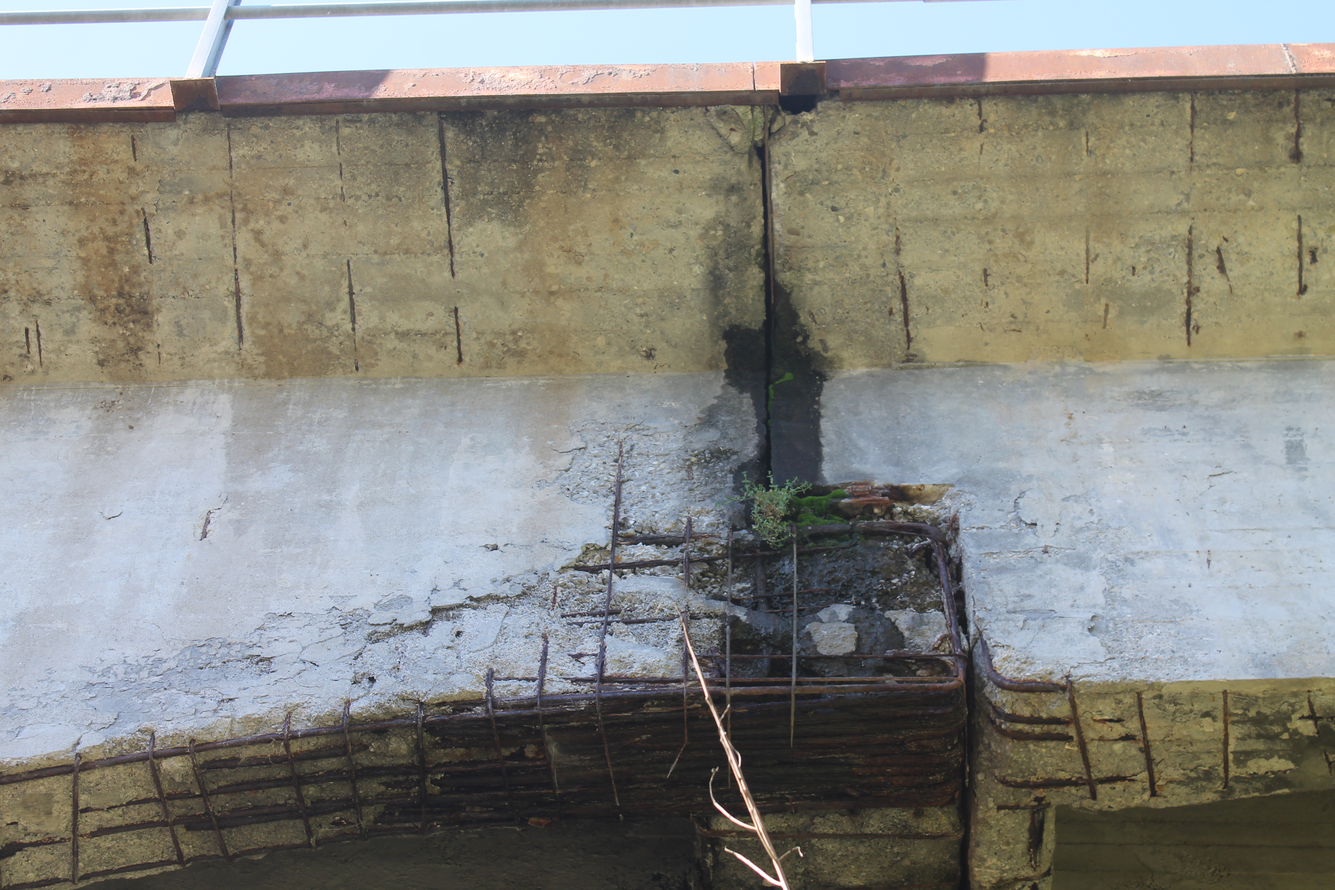Corrosion/Exposed rebar: (2, 92, 1329, 382), (5, 387, 709, 887), (700, 366, 1053, 883), (1061, 679, 1329, 820)
Leaching: (723, 365, 922, 668), (724, 269, 830, 362)
Spalling: (0, 90, 1333, 386), (0, 371, 715, 888), (697, 364, 1058, 888), (1058, 677, 1333, 821)
